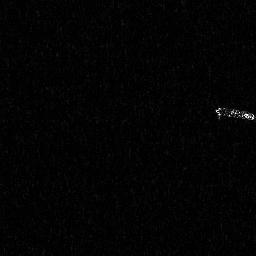ship: (214, 104, 256, 125)
